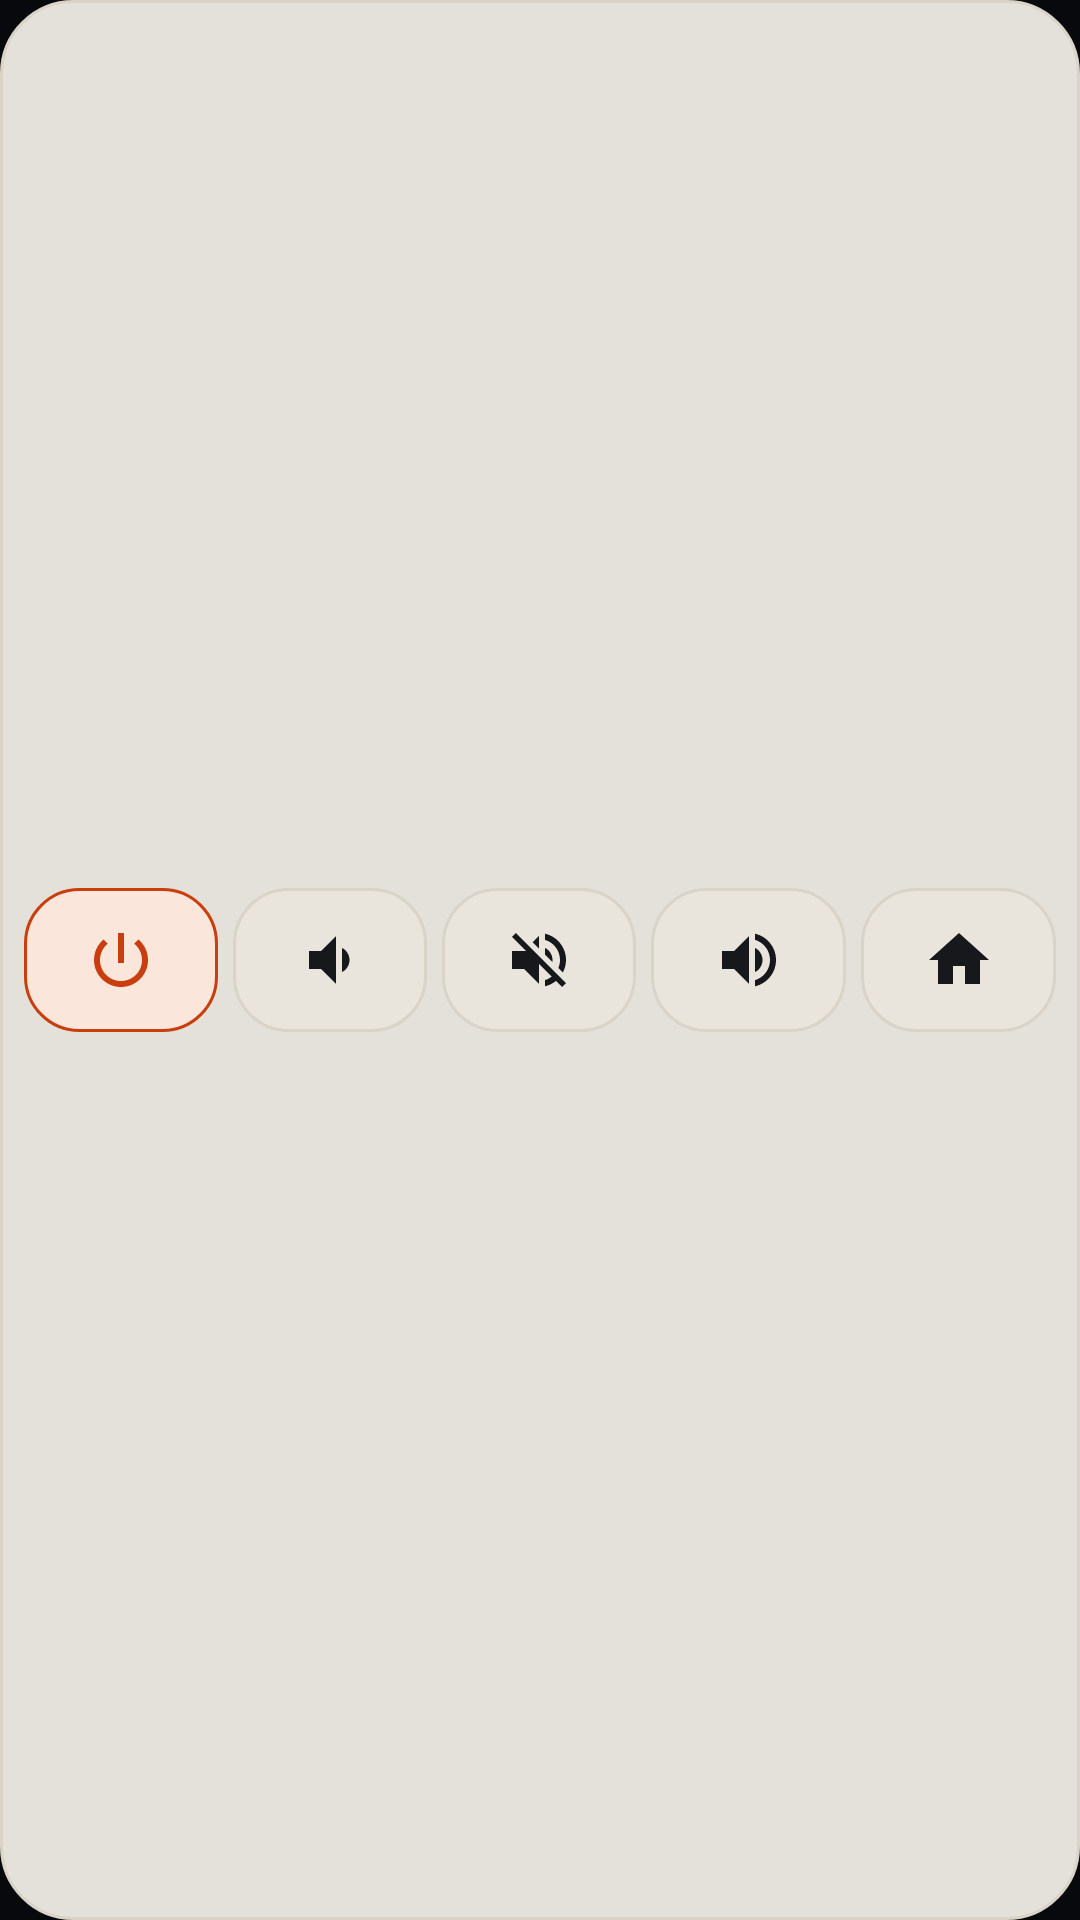

Icons on this 1080px x 1920px Android screen, each with the point to tap as (x=x, y=y):
Bajar volumen: (x=329, y=960)
Encendido: (x=121, y=960)
Inicio: (x=959, y=958)
Silenciar: (x=539, y=960)
Subir volumen: (x=749, y=960)
